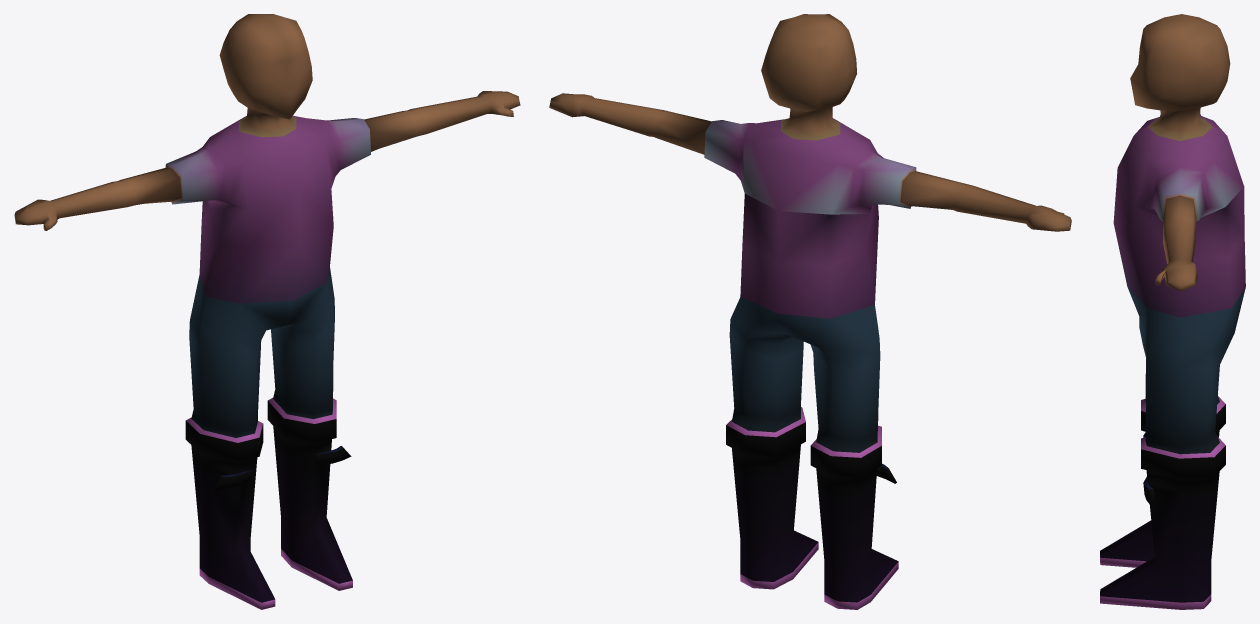
The model's file is client2.fbx.
3 views of the same model, side by side, from view 1: azimuth 30°, elevation 25°; view 2: azimuth 150°, elevation 25°; view 3: azimuth 270°, elevation 25° (orthographic). The views are drawn at different scales.
Parts seen in each view (by area): view 1: ClientNEW [vertex painted]; view 2: ClientNEW [vertex painted]; view 3: ClientNEW [vertex painted].
Part boxes in pixels (bbox=[...]): ClientNEW [vertex painted]: bbox=[14, 14, 520, 609]; ClientNEW [vertex painted]: bbox=[549, 14, 1071, 609]; ClientNEW [vertex painted]: bbox=[1100, 14, 1245, 609].
Bounding box in the file's own units: 141 × 147 × 34.62.
